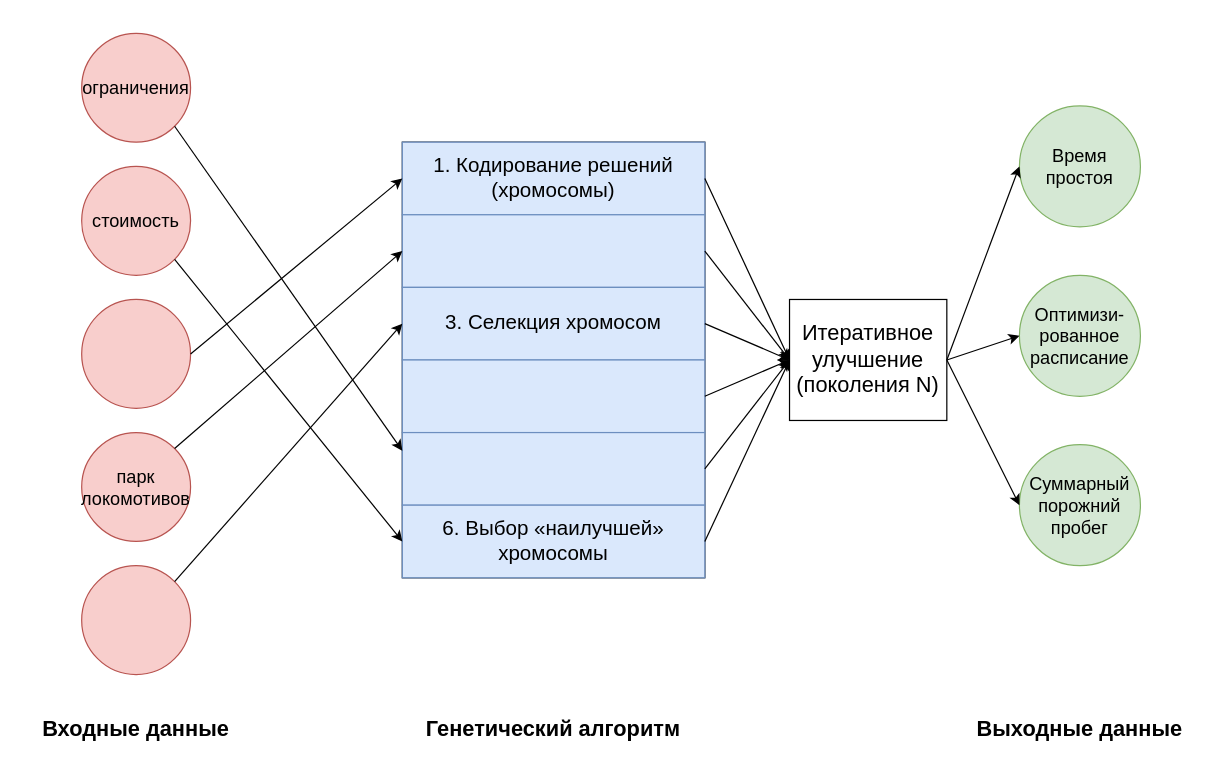
This 1215x767 diagram has some shape labels left out. The shapes that lost their labels are listed below. From the top down, each one's centre as x and y in pixels, then its label:
point 553,250: 2. Целевая функция (пробег + простой)
point 135,353: карта станций
point 553,396: 4. Генетические операторы (кроссовер, мутация)
point 553,468: 5. Формирование новой популяции
point 135,619: план поездов
